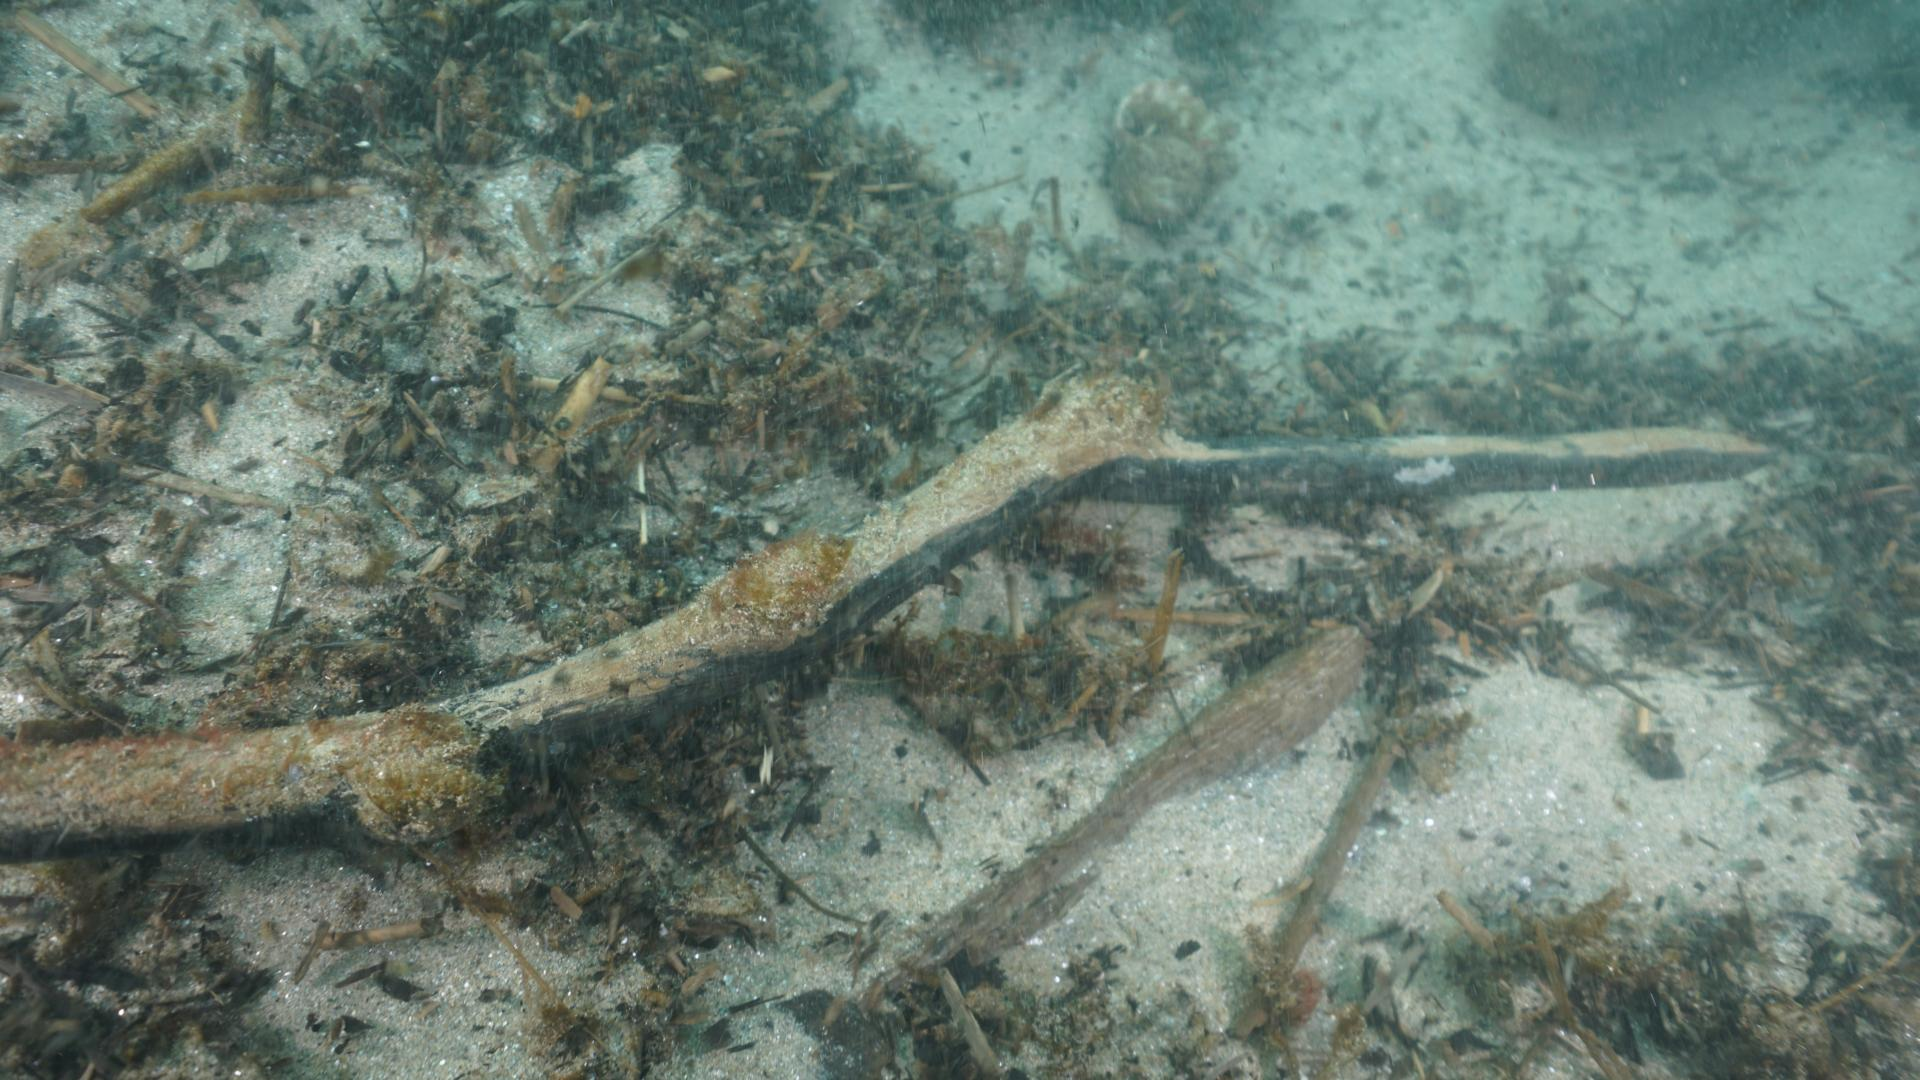wood: (0, 380, 1768, 858)
